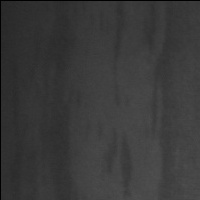inclusion: (37, 3, 81, 198), (152, 3, 193, 198), (105, 2, 133, 111), (7, 53, 27, 199), (106, 123, 138, 199)
